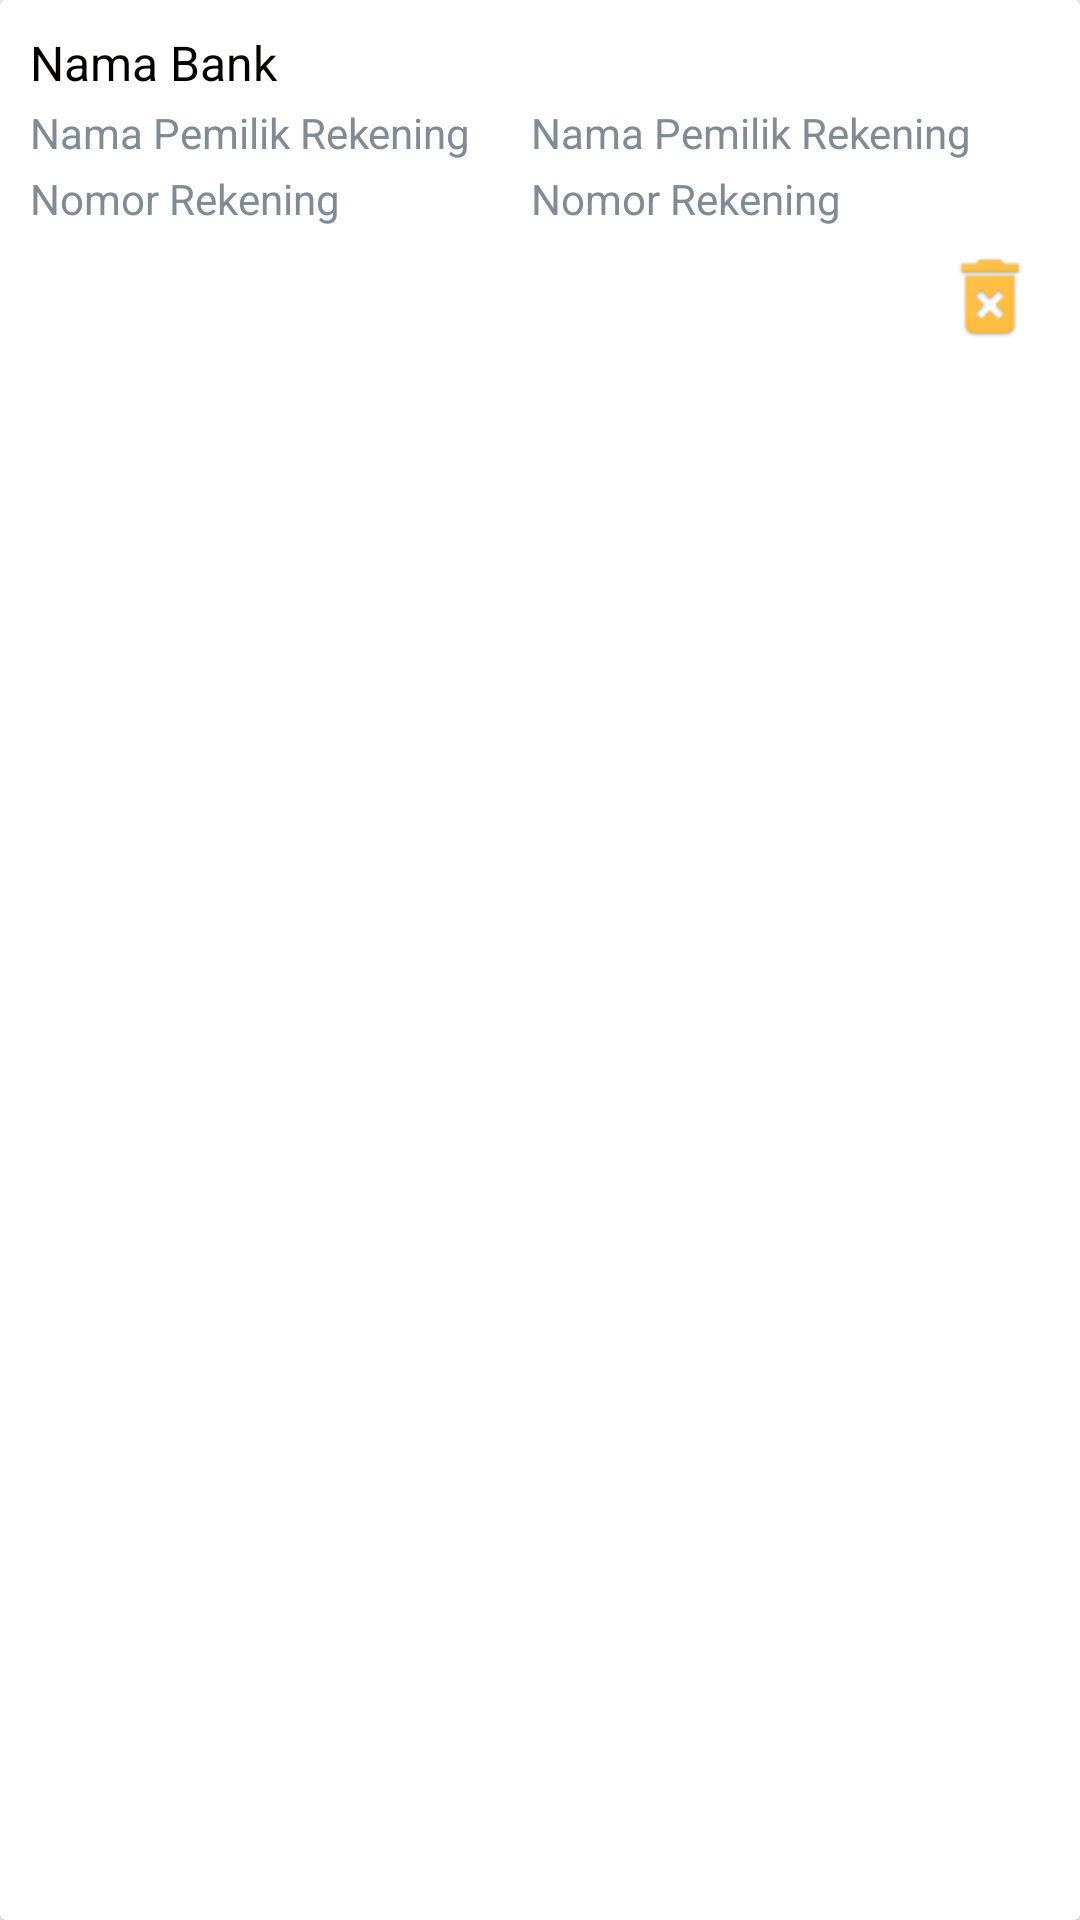

Icon click points for this 1080px x 1920px phone screenshot, format point (x, y):
delete: point (990, 296)
